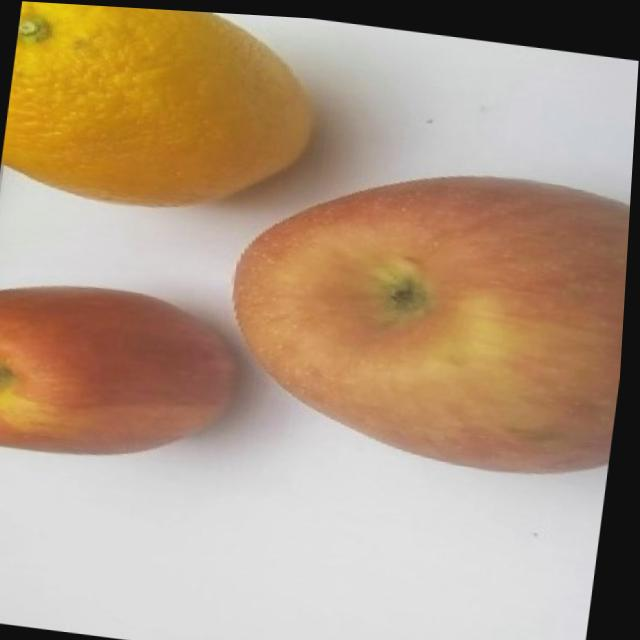Apple: (217, 137, 634, 478)
Orange: (0, 0, 327, 223)
